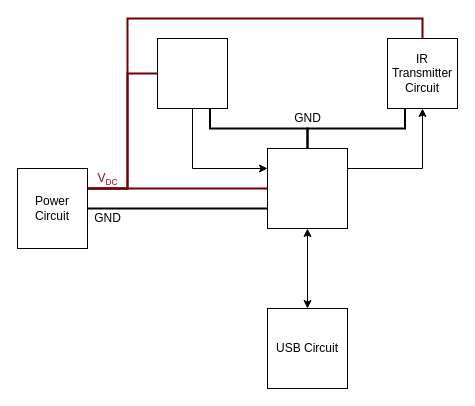
Image size: 475x406. Some labels were removed from this diagram. The centre of each missing label's shape, as x and y in pixels:
"IR Reciever Circuit" goes at (192,73).
"MCU" goes at (307,188).
